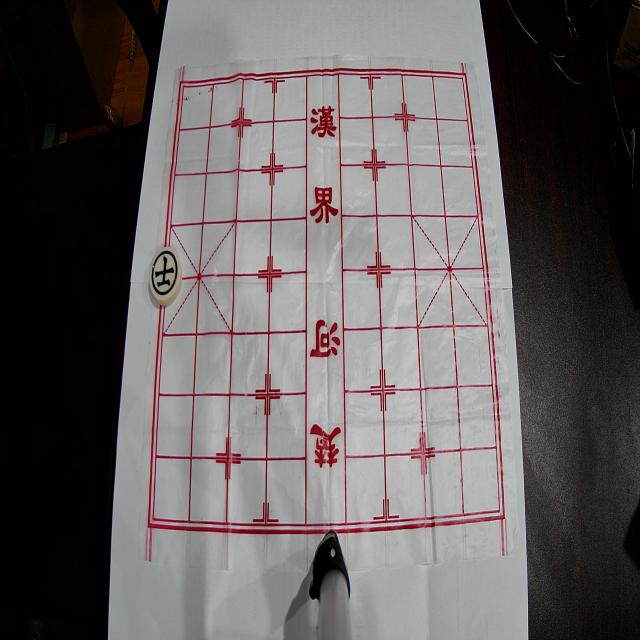black-guard: (149, 247, 182, 305)
